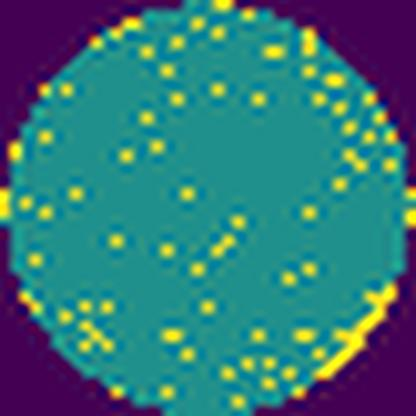Edge-Loc: (319, 276, 404, 383)
